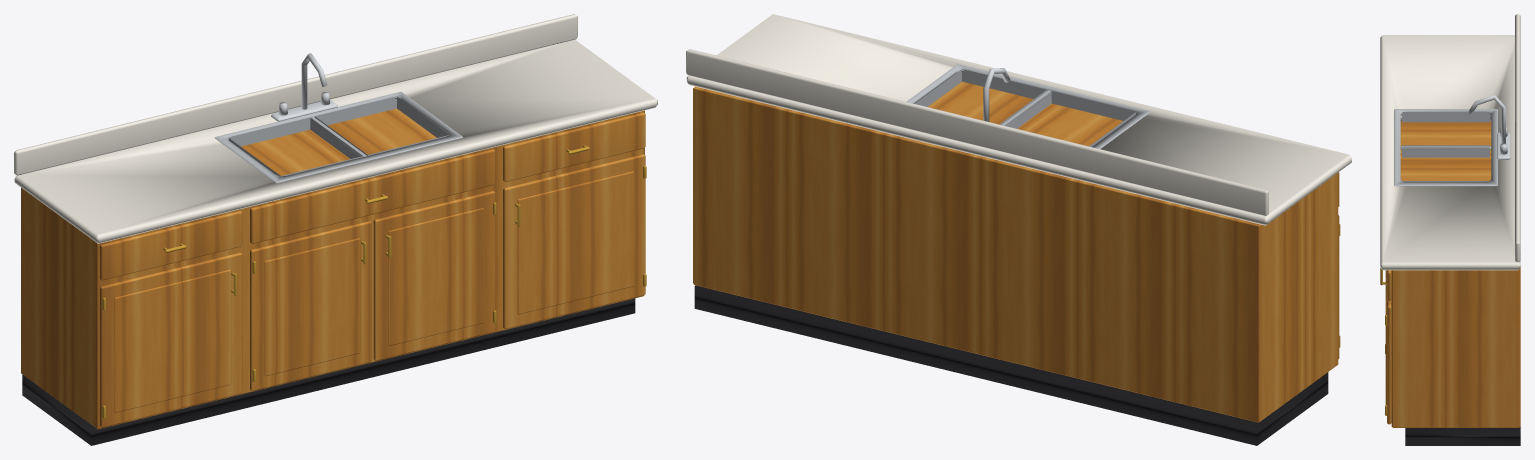
Rendered from kitchen_counter_sink.glb.
The picture shows the model from 3 angles, left to right: view 1: azimuth 30°, elevation 25°; view 2: azimuth 150°, elevation 25°; view 3: azimuth 270°, elevation 25°; orthographic projection. The views are drawn at different scales.
Visible parts, largest first — view 1: model; view 2: model; view 3: model.
Boxes of the visible parts, box(x1,y1,x2,y2) form: model: box(14, 14, 657, 445); model: box(686, 14, 1351, 445); model: box(1380, 14, 1520, 445).
Size of the model in its own units: 2.4 by 1.17 by 0.62.
Materials: 6 (1 with a texture image).
